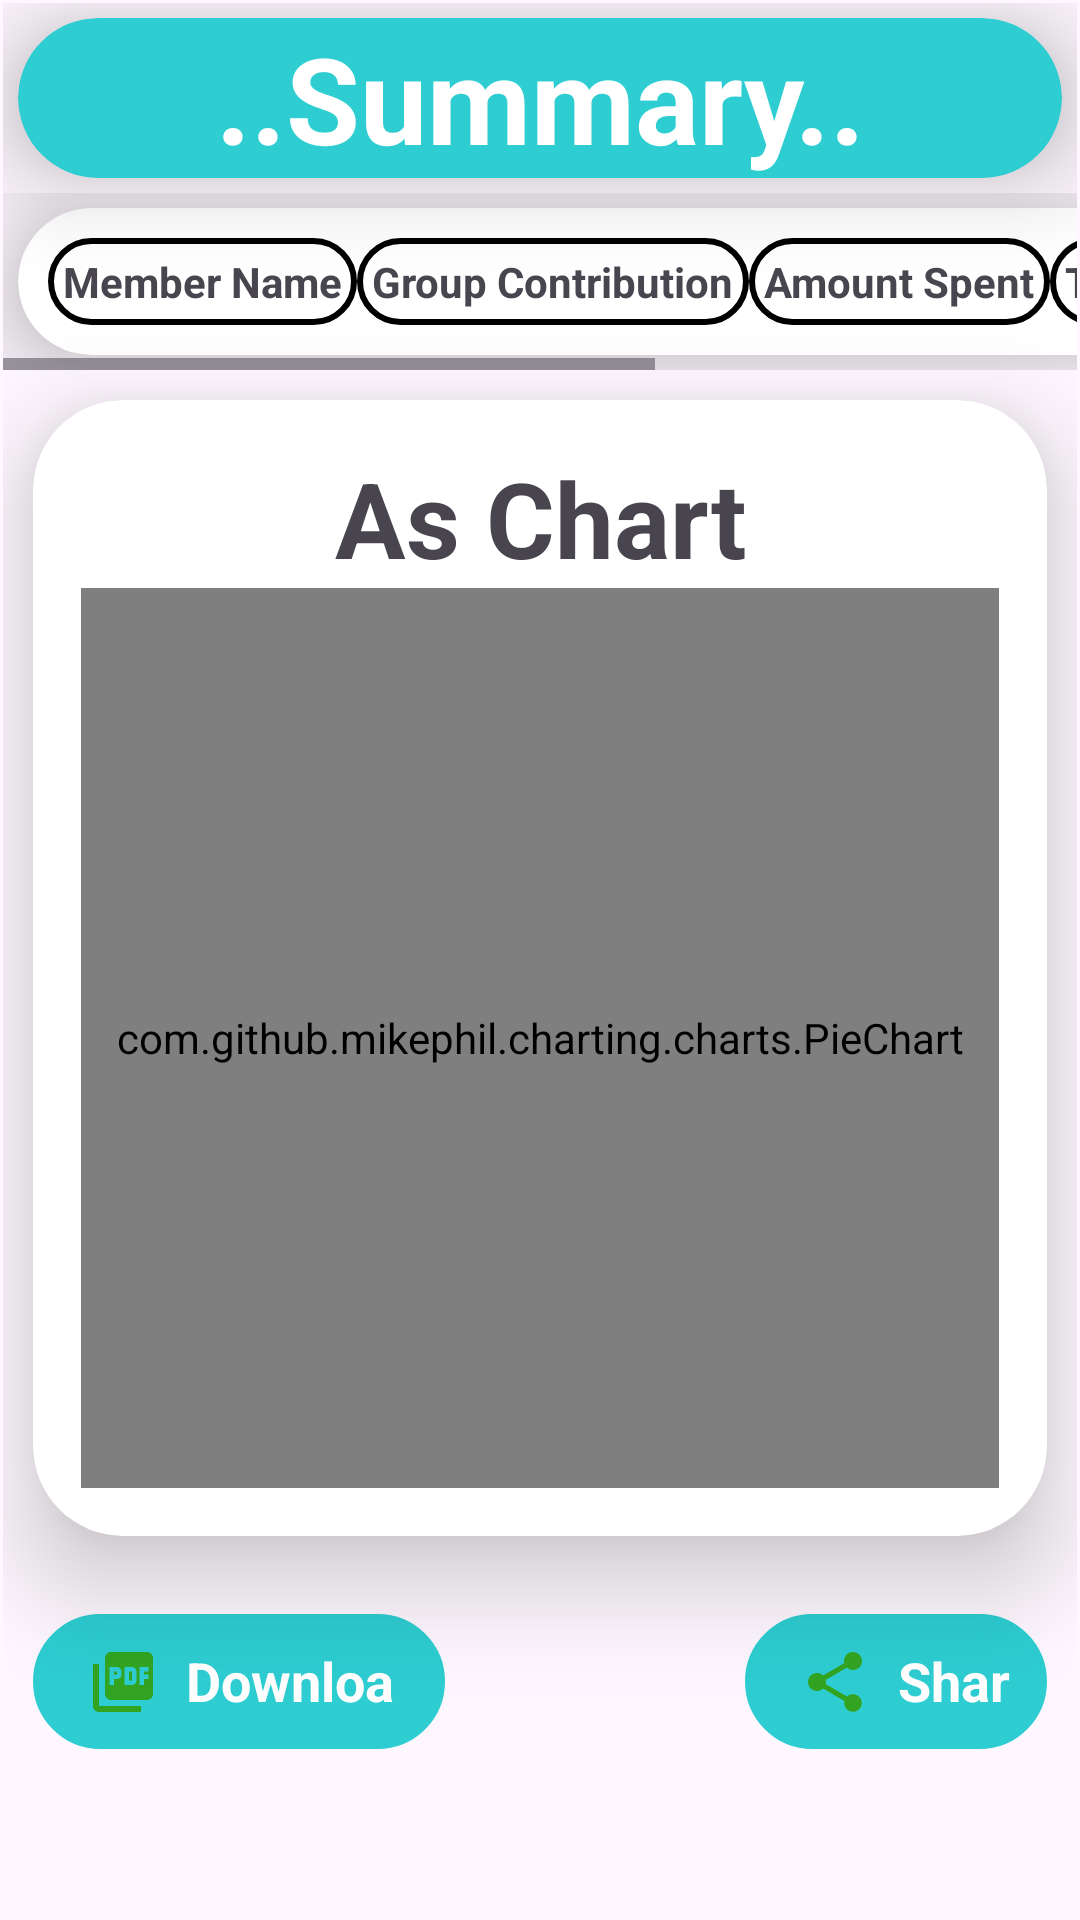

Named icons in this screenshot (1080w x 1920h) and their centers, [x,y]:
picture as pdf: [123,1682]
